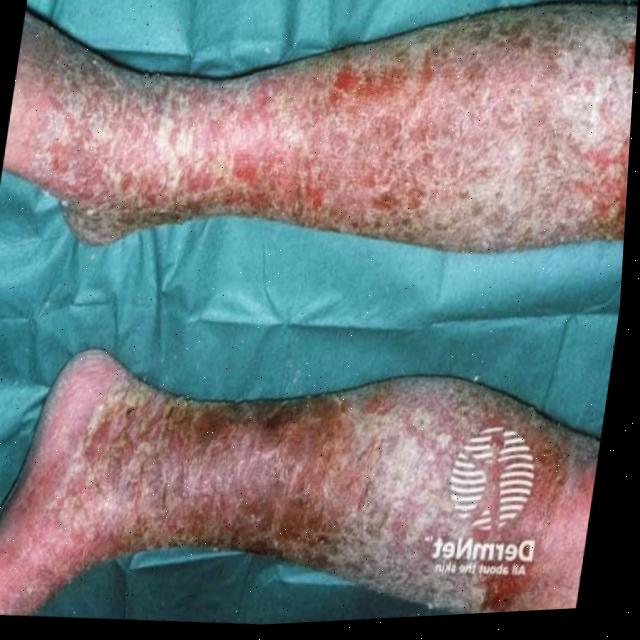Eczema: (51, 0, 640, 268), (61, 324, 550, 582)
